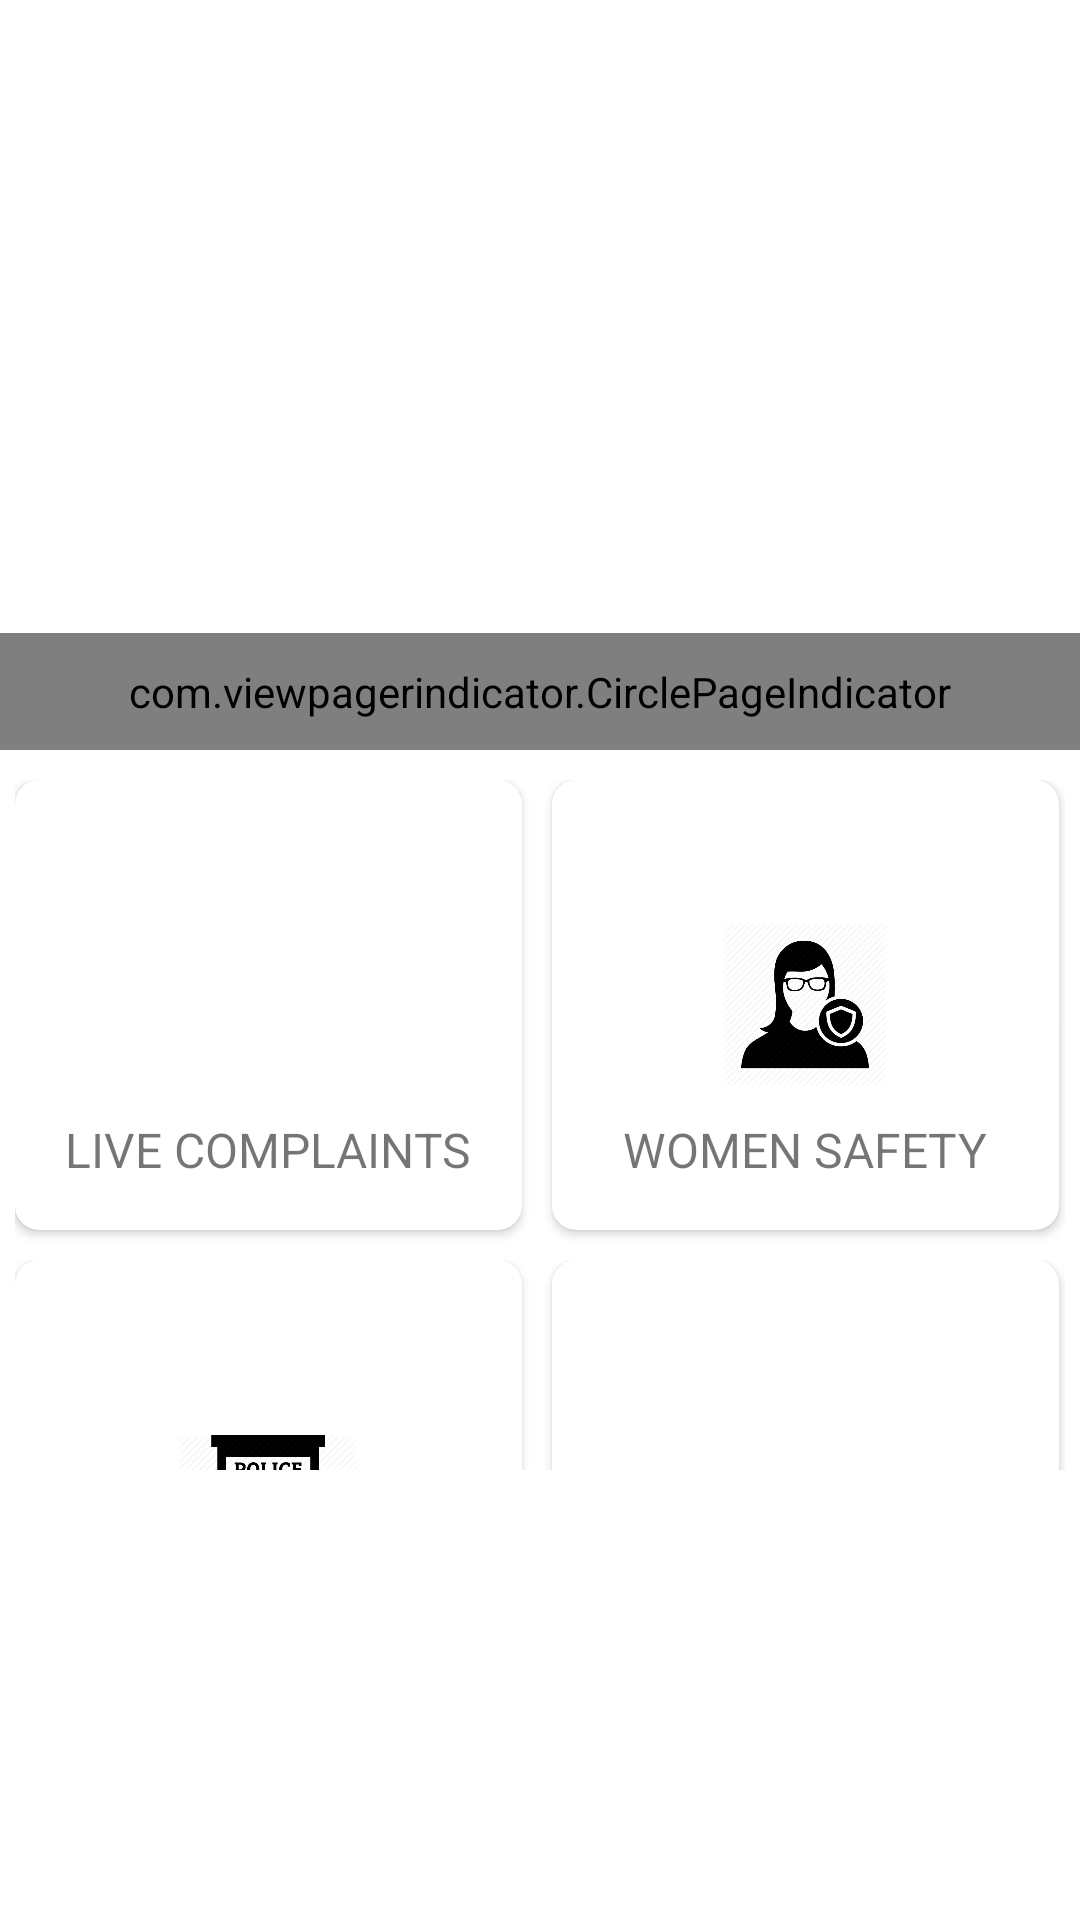

Named icons in this screenshot (1080*1920) and their bounding boxes, (x1, y1, x2, y2):
safewomen: (741, 941, 869, 1069)
